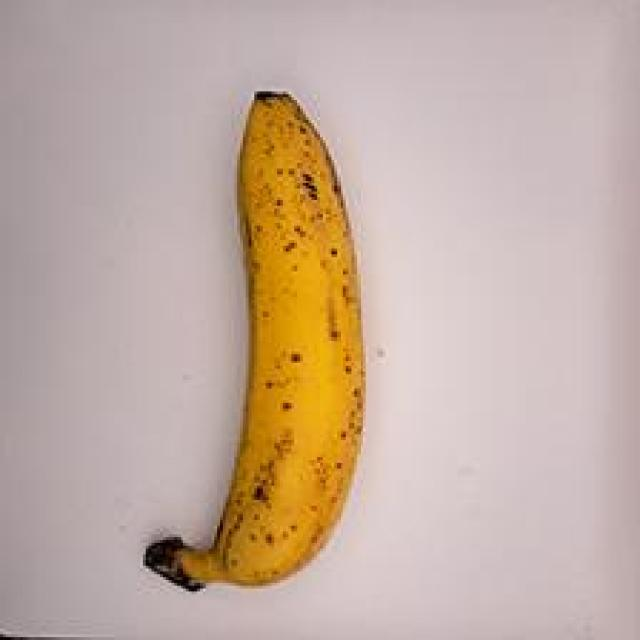Overripe: (110, 53, 392, 626)
